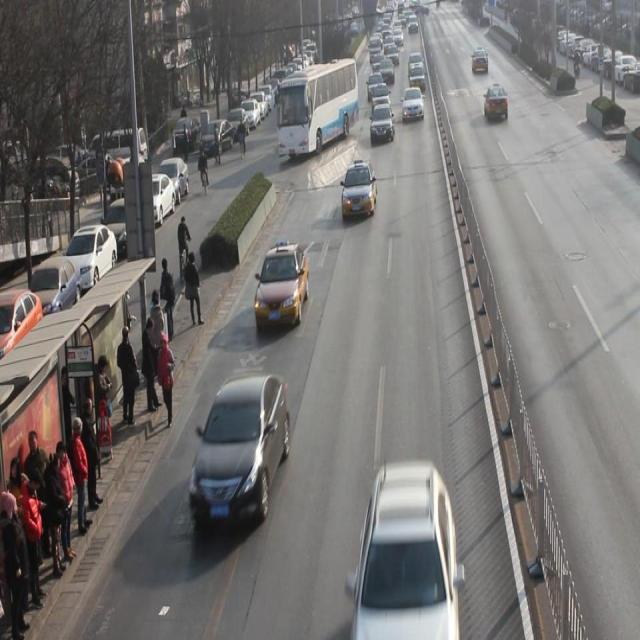car: (353, 458, 461, 640), (188, 372, 292, 528), (255, 246, 310, 329), (342, 163, 377, 222), (370, 104, 396, 145), (484, 86, 509, 121), (369, 83, 392, 116), (402, 88, 424, 122)
van: (276, 60, 358, 156)
